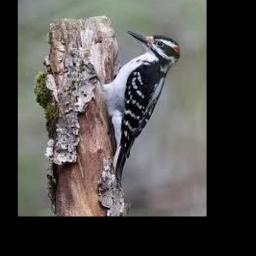Woodpecker: (101, 30, 180, 185)
